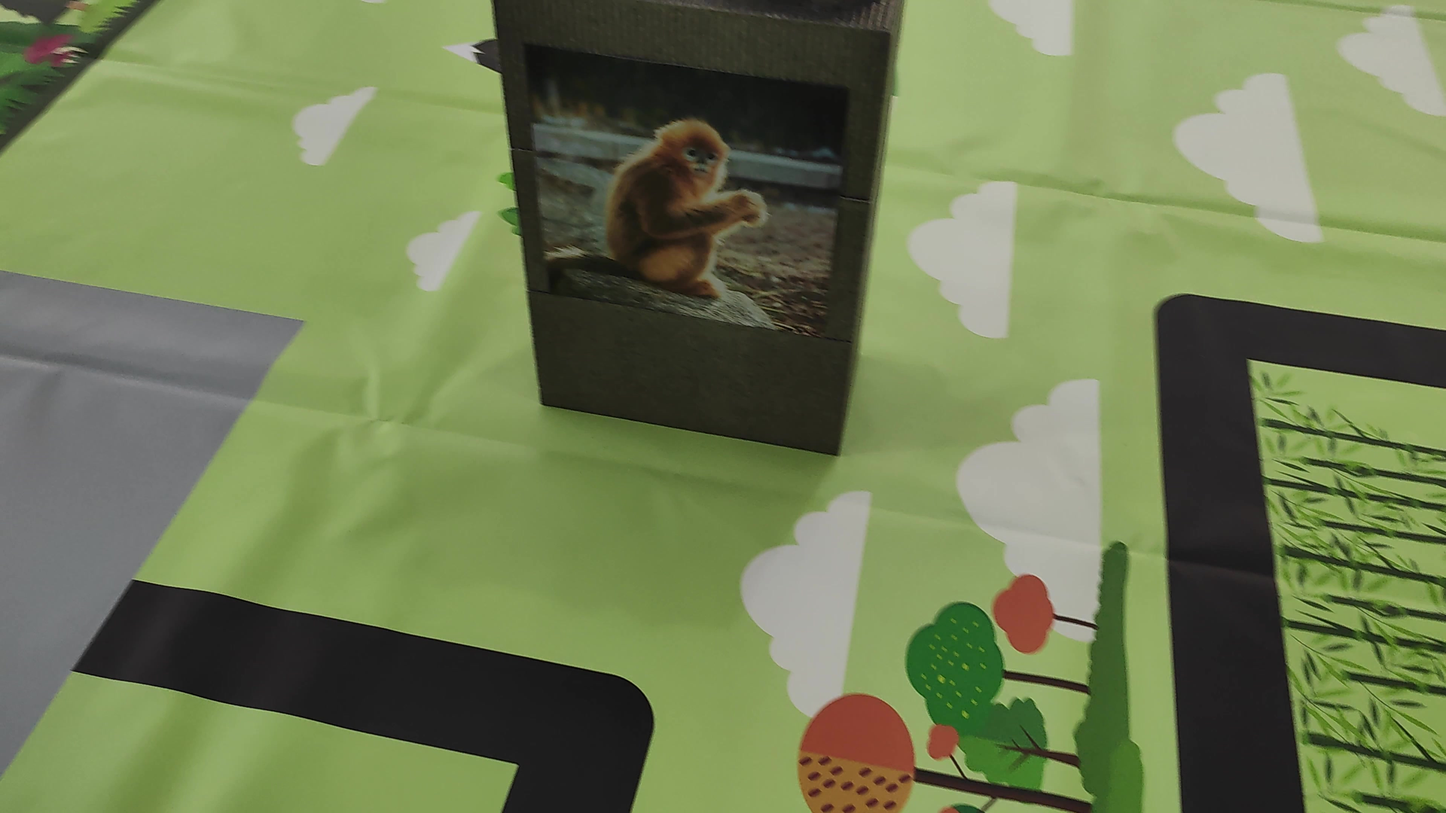monkey: (571, 104, 797, 326)
